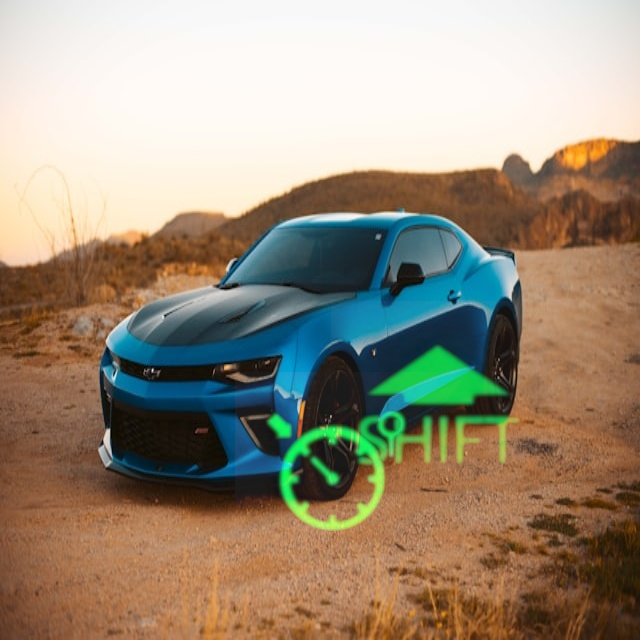symbol: (331, 301, 546, 516), (235, 372, 437, 574)
